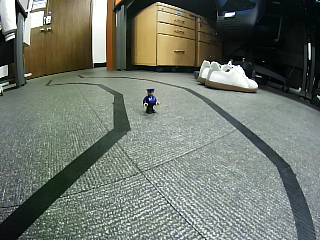person: (143, 88, 160, 114)
